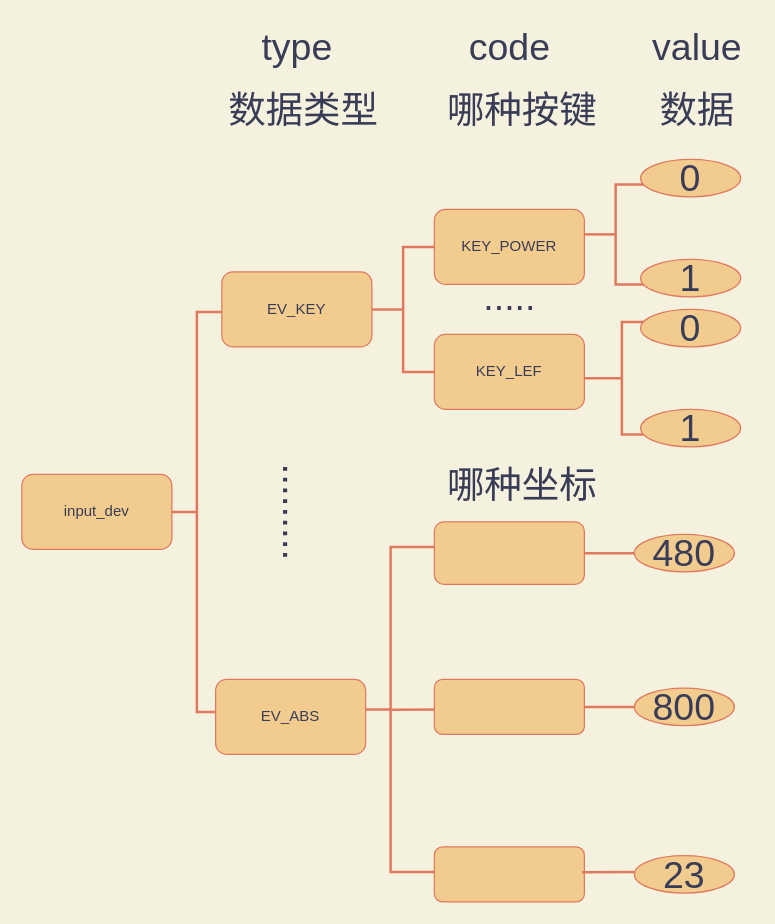
Some shapes in this 775 by 924 pixel diagram are drawn without their labels. Here are the shapes that lost their labels. From the top down, the box of each, then its label:
(433, 521, 584, 584): ABS_X
(433, 678, 584, 734): ABS_Y
(433, 846, 584, 902): ABS_PRESSURE
